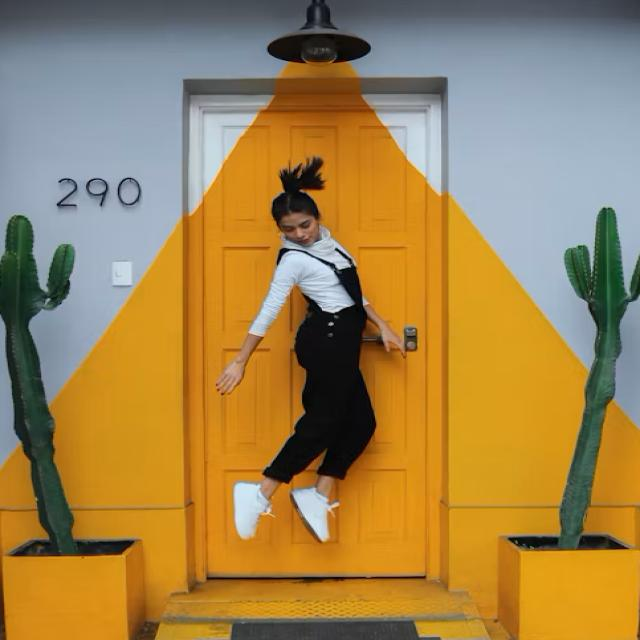Edited images: (216, 149, 424, 576)
